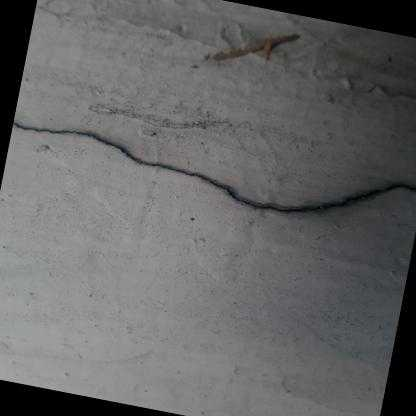crack: (12, 120, 416, 210)
